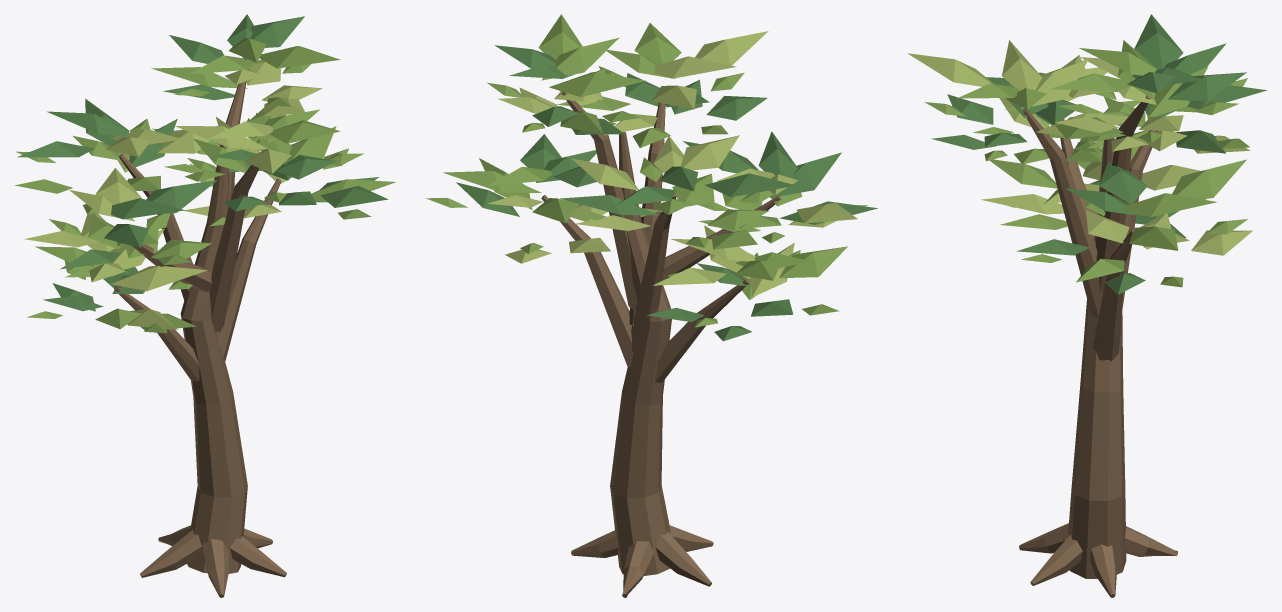
Rendered from 001_asymmetric_broadleaf.glb.
3 views of the same model, side by side, from view 1: azimuth 30°, elevation 25°; view 2: azimuth 150°, elevation 25°; view 3: azimuth 270°, elevation 25° (orthographic). The views are drawn at different scales.
Visible parts, largest first — view 1: TRE-001_crown, TRE_Trunk, TRE-001_branches, TRE-001_roots; view 2: TRE-001_crown, TRE_Trunk, TRE-001_branches, TRE-001_roots; view 3: TRE-001_crown, TRE_Trunk, TRE-001_branches, TRE-001_roots.
Boxes of the visible parts, left/top/right/bottom form: TRE-001_crown: left=14, top=14, right=395, bottom=333; TRE_Trunk: left=180, top=144, right=247, bottom=573; TRE-001_branches: left=114, top=69, right=281, bottom=381; TRE-001_roots: left=140, top=525, right=286, bottom=597; TRE-001_crown: left=426, top=14, right=877, bottom=341; TRE_Trunk: left=610, top=131, right=671, bottom=575; TRE-001_branches: left=541, top=92, right=780, bottom=382; TRE-001_roots: left=571, top=525, right=713, bottom=597; TRE-001_crown: left=908, top=14, right=1266, bottom=294; TRE_Trunk: left=1068, top=138, right=1126, bottom=578; TRE-001_branches: left=1023, top=95, right=1158, bottom=361; TRE-001_roots: left=1019, top=523, right=1177, bottom=597.
Size of the model in its own units: 4.23 by 5.48 by 3.31.
